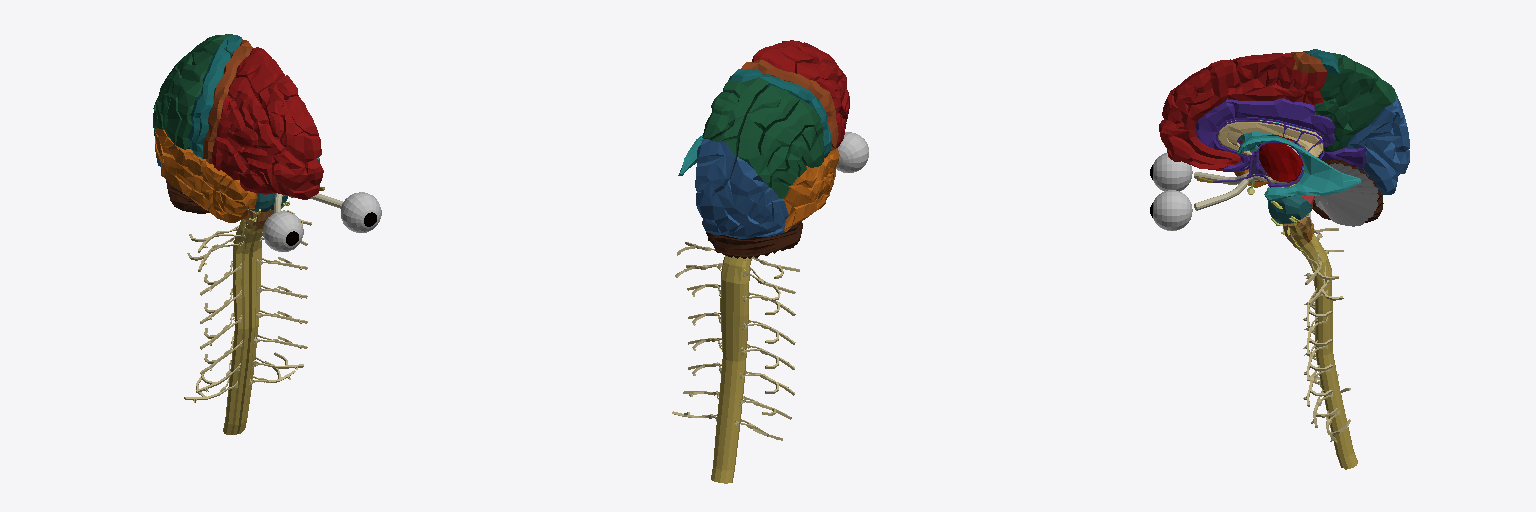
The model's file is rightSide_brainSplit.obj.
The picture shows the model from 3 angles: view 1: azimuth 30°, elevation 25°; view 2: azimuth 150°, elevation 25°; view 3: azimuth 270°, elevation 25°; orthographic projection.
Parts seen in each view (by area): view 1: _Tex_Body:Eye_R1; view 2: _Tex_Body:Eye_R1; view 3: _Tex_Body:Eye_R1.
Part boxes in pixels (left/top/right/bottom): _Tex_Body:Eye_R1: left=153, top=34, right=381, bottom=434; _Tex_Body:Eye_R1: left=672, top=40, right=868, bottom=483; _Tex_Body:Eye_R1: left=1150, top=49, right=1409, bottom=469.
Size of the model in its own units: 0.0954 by 0.2683 by 0.1552.